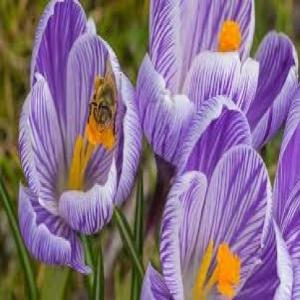Saffron: (20, 1, 145, 273), (143, 3, 300, 172), (139, 145, 300, 300)
